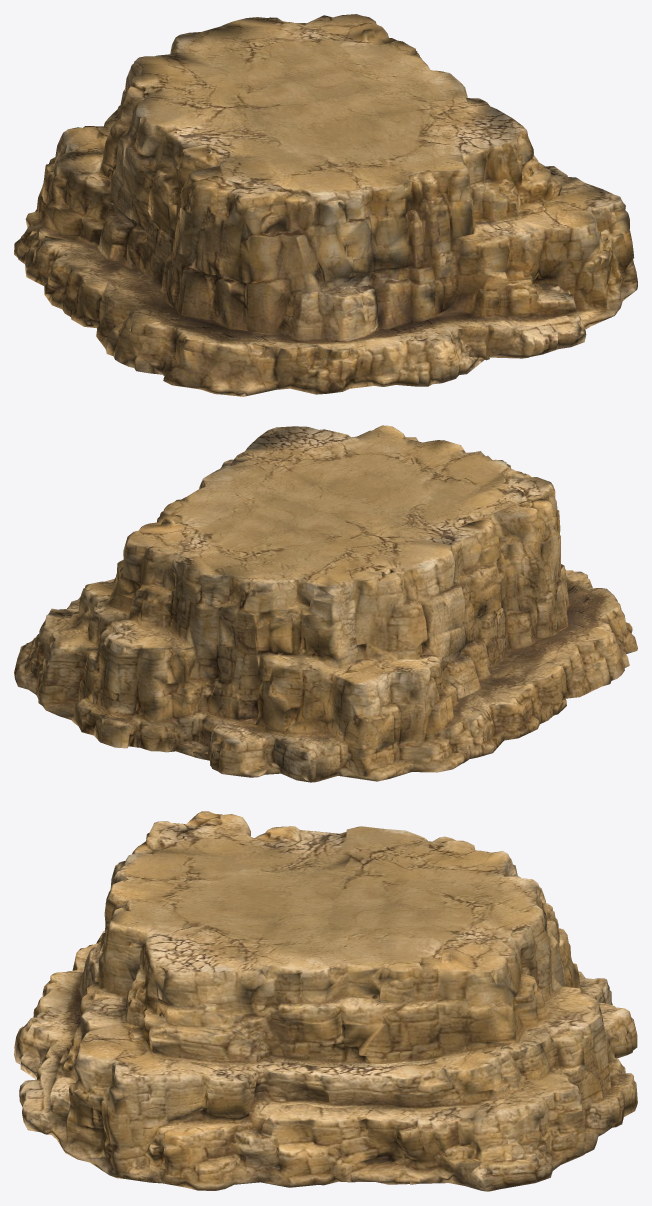
The model's file is city_mardin_citadel_rock.glb.
3 renders of one model, top to bottom at view 1: azimuth 30°, elevation 25°; view 2: azimuth 150°, elevation 25°; view 3: azimuth 270°, elevation 25°, orthographic. The views are drawn at different scales.
Parts seen in each view (by area): view 1: Mesh1.0; view 2: Mesh1.0; view 3: Mesh1.0.
Boxes of the visible parts, x1,y1,x2,y2 form: Mesh1.0: (14, 14, 637, 396); Mesh1.0: (14, 425, 637, 782); Mesh1.0: (14, 811, 637, 1191).
Bounding box in the file's own units: 75.92 × 24 × 79.67.
Materials: 1 (1 with a texture image).
